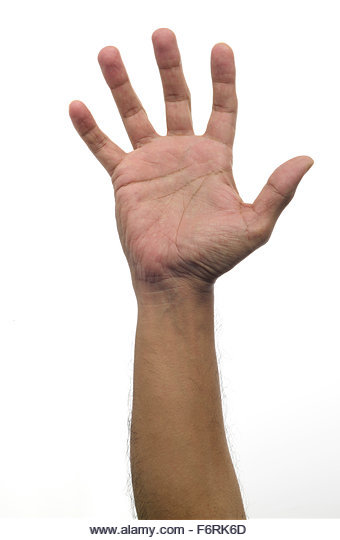hand: (58, 14, 326, 316)
